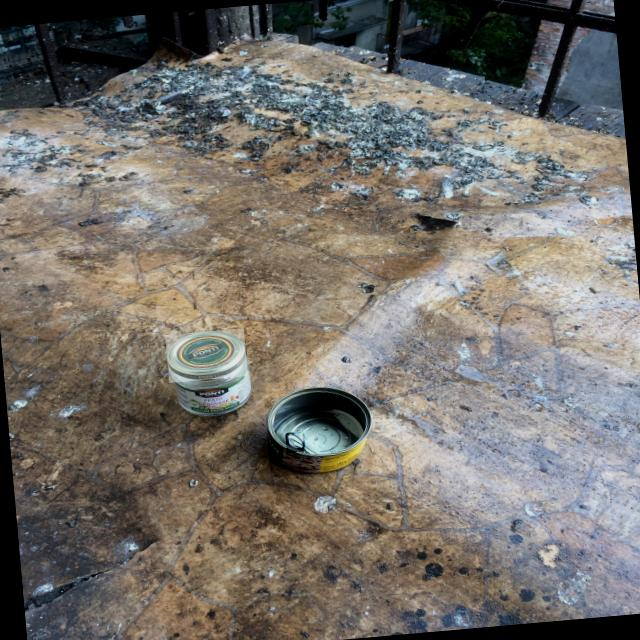Lid: (167, 331, 246, 380)
Other can: (268, 386, 372, 473)
Pop tab: (286, 432, 305, 451), (289, 434, 303, 447)
